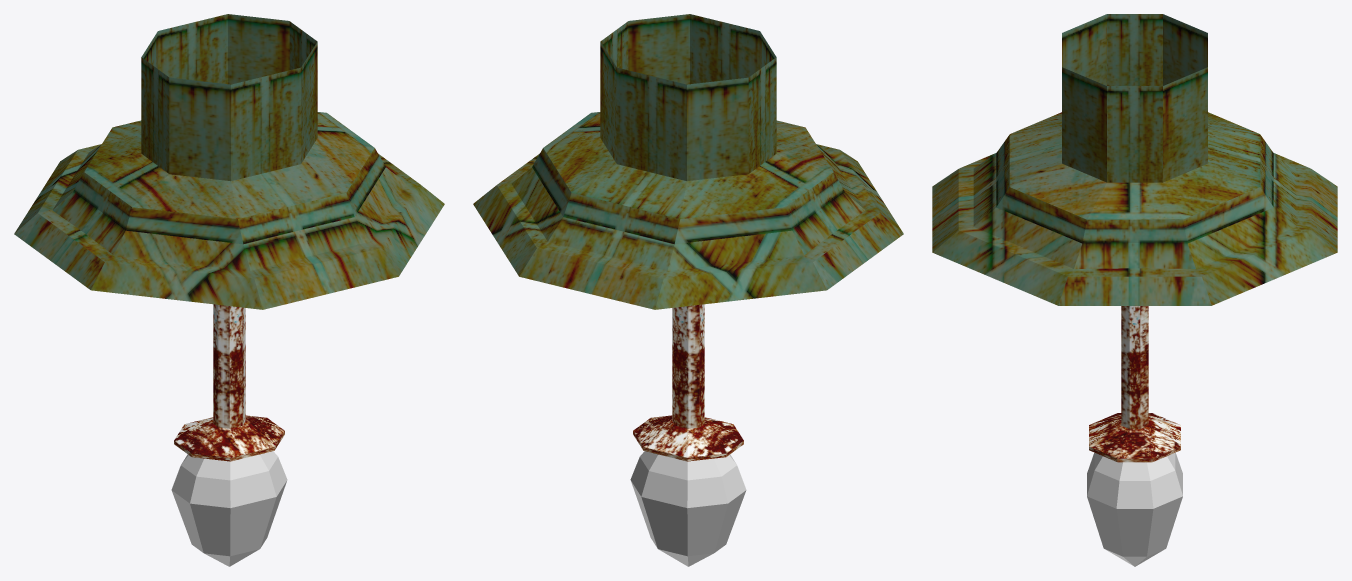
File: lamb.glb
3 views of the same model, side by side, from view 1: azimuth 30°, elevation 25°; view 2: azimuth 150°, elevation 25°; view 3: azimuth 270°, elevation 25° (orthographic).
Parts seen in each view (by area): view 1: door; view 2: door; view 3: door.
Part boxes in pixels (x1,y1,x2,y2): door: [14, 14, 444, 566]; door: [473, 14, 903, 566]; door: [932, 14, 1337, 566].
Size of the model in its own units: 0.5798 by 0.8099 by 0.5753.
Materials: 3 (2 with a texture image).
